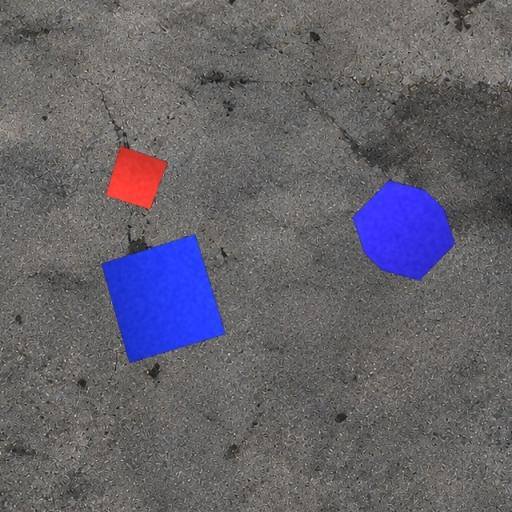BLUE_SQUARE: (100, 234, 226, 363)
RED_SQUARE: (105, 145, 169, 210)
